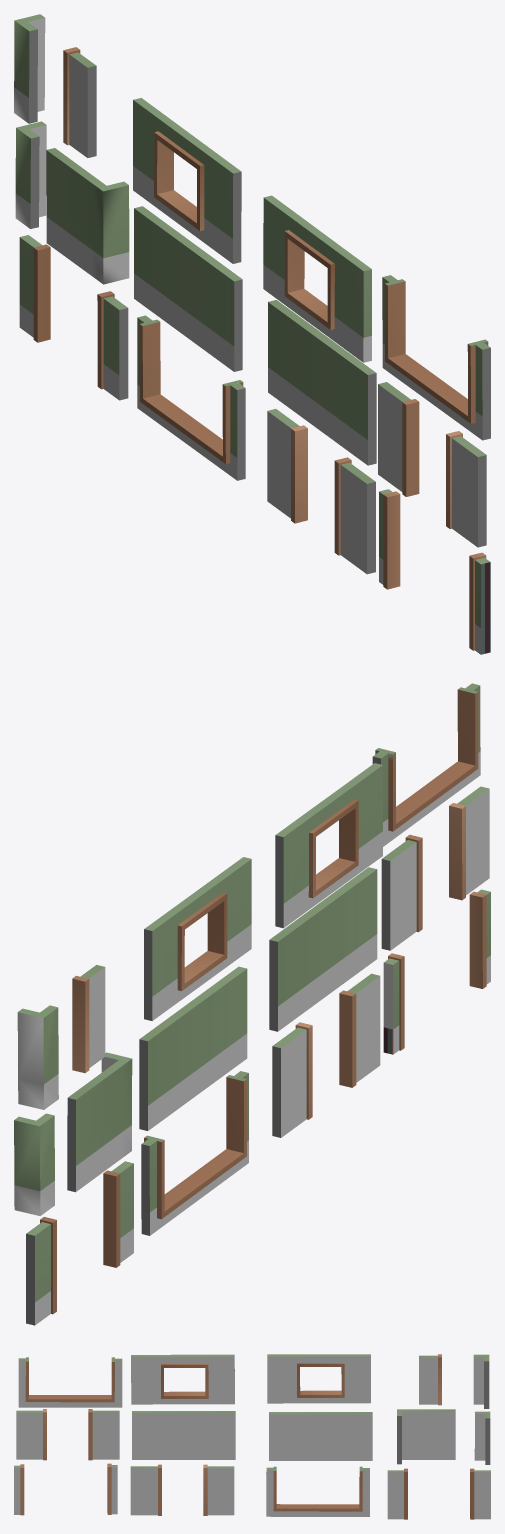
The model's file is solo parets verde.fbx.
The picture shows the model from 3 angles, top to bottom: view 1: azimuth 30°, elevation 25°; view 2: azimuth 150°, elevation 25°; view 3: azimuth 270°, elevation 25°; orthographic projection. The views are drawn at different scales.
Parts seen in each view (by area): view 1: paret_basica_tipo_2, paret_basica_tipo_1, paret_ventana_tipo_2, paret_ventana_tipo_1, paret_estrecha_tipo_2, paret_puerta_tipo_3, paret_puerta_tipo_4, paret_con_ventana_grande_tipo_1, paret_con_ventana_grande_tipo_2, paret_doblepuerta_tipo_1, paret_garaje_tipo_2, paret_con_borde_tipo_4 (+2 smaller); view 2: paret_basica_tipo_2, paret_basica_tipo_1, paret_ventana_tipo_2, paret_ventana_tipo_1, paret_puerta_tipo_4, paret_puerta_tipo_3, paret_estrecha_tipo_2, paret_con_ventana_grande_tipo_1, paret_doblepuerta_tipo_1, paret_con_ventana_grande_tipo_2, paret_garaje_tipo_2, paret_esquina_tipo_5 (+2 smaller); view 3: paret_basica_tipo_2, paret_basica_tipo_1, paret_ventana_tipo_2, paret_ventana_tipo_1, paret_puerta_tipo_3, paret_puerta_tipo_4, paret_estrecha_tipo_2, paret_con_ventana_grande_tipo_2, paret_con_ventana_grande_tipo_1, paret_doblepuerta_tipo_1, paret_con_borde_tipo_4, paret_garaje_tipo_2 (+2 smaller).
Boxes of the visible parts, x1,y1,x2,y2 form: paret_basica_tipo_2: (268, 300, 376, 465); paret_basica_tipo_1: (134, 206, 242, 371); paret_ventana_tipo_2: (263, 195, 371, 362); paret_ventana_tipo_1: (133, 98, 241, 263); paret_estrecha_tipo_2: (46, 148, 129, 284); paret_puerta_tipo_3: (267, 409, 375, 574); paret_puerta_tipo_4: (378, 382, 486, 547); paret_con_ventana_grande_tipo_1: (137, 315, 245, 480); paret_con_ventana_grande_tipo_2: (382, 275, 490, 440); paret_doblepuerta_tipo_1: (19, 235, 128, 400); paret_garaje_tipo_2: (379, 489, 490, 654); paret_con_borde_tipo_4: (63, 47, 96, 157); paret_basica_tipo_2: (269, 867, 377, 1031); paret_basica_tipo_1: (139, 966, 247, 1130); paret_ventana_tipo_2: (275, 763, 382, 928); paret_ventana_tipo_1: (144, 857, 251, 1020); paret_puerta_tipo_4: (381, 786, 489, 950); paret_puerta_tipo_3: (272, 973, 380, 1137); paret_estrecha_tipo_2: (67, 1052, 132, 1192); paret_con_ventana_grande_tipo_1: (141, 1071, 248, 1235); paret_doblepuerta_tipo_1: (26, 1161, 133, 1325); paret_con_ventana_grande_tipo_2: (372, 683, 480, 846); paret_garaje_tipo_2: (383, 889, 490, 1054); paret_esquina_tipo_5: (17, 1005, 58, 1109); paret_basica_tipo_2: (132, 1411, 235, 1459); paret_basica_tipo_1: (269, 1412, 372, 1460); paret_ventana_tipo_2: (131, 1354, 234, 1404); paret_ventana_tipo_1: (267, 1354, 370, 1403); paret_puerta_tipo_3: (130, 1464, 234, 1515); paret_puerta_tipo_4: (16, 1409, 119, 1460); paret_estrecha_tipo_2: (397, 1409, 455, 1464); paret_con_ventana_grande_tipo_2: (18, 1357, 122, 1407); paret_con_ventana_grande_tipo_1: (266, 1466, 369, 1516); paret_doblepuerta_tipo_1: (387, 1468, 490, 1519); paret_con_borde_tipo_4: (419, 1354, 441, 1405); paret_garaje_tipo_2: (14, 1463, 117, 1515).
Size of the model in its own units: 112 by 1144 by 3048.
